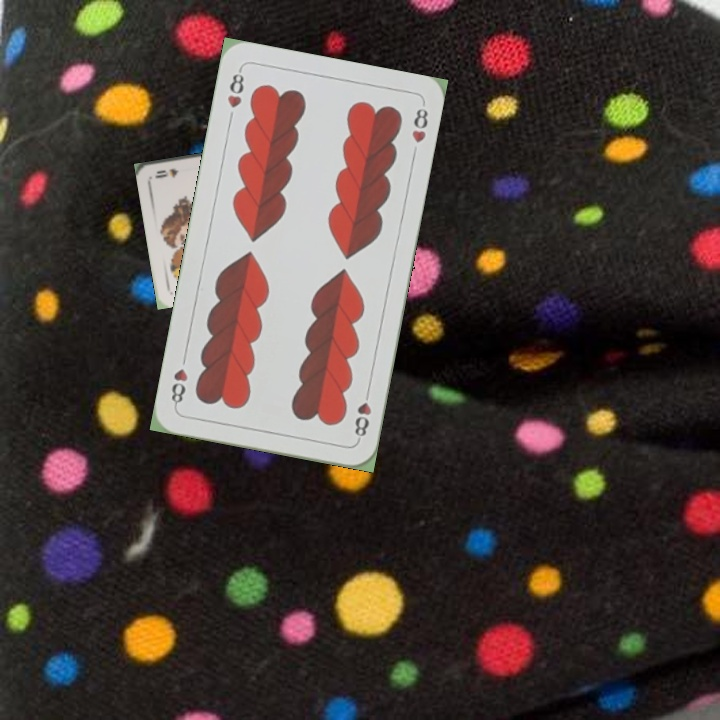H8: (350, 385, 374, 443), (223, 65, 247, 111)
